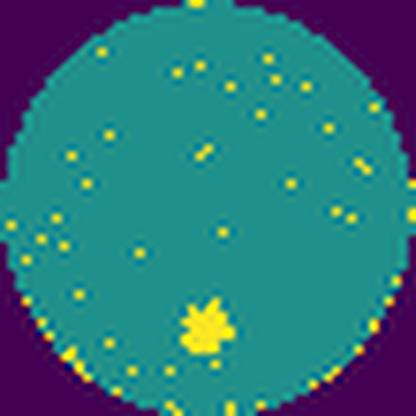Loc: (182, 292, 236, 359)
